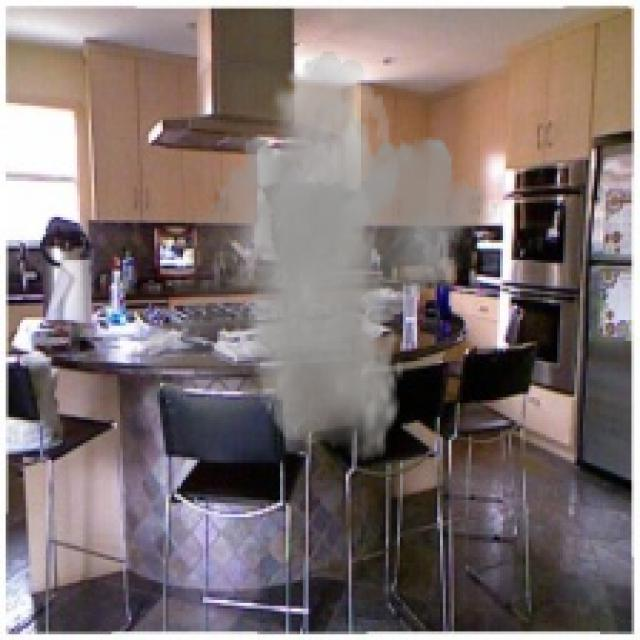Smoke: (128, 51, 500, 463)
